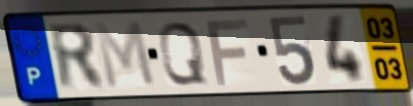4: (322, 13, 369, 86)
5: (268, 13, 319, 87)
F: (203, 16, 252, 88)
M: (91, 19, 160, 92)
Q: (156, 20, 210, 88)
R: (44, 21, 109, 94)
